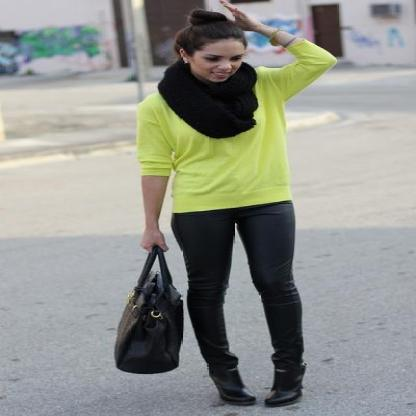bag: (114, 258, 198, 373)
pants: (172, 200, 304, 380)
shirt: (135, 31, 336, 212)
shoe: (213, 372, 304, 407)
